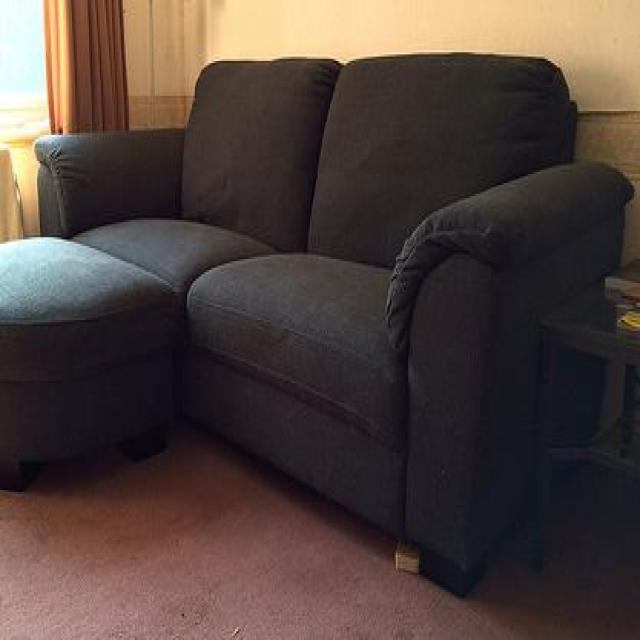sofa: (25, 48, 632, 596)
